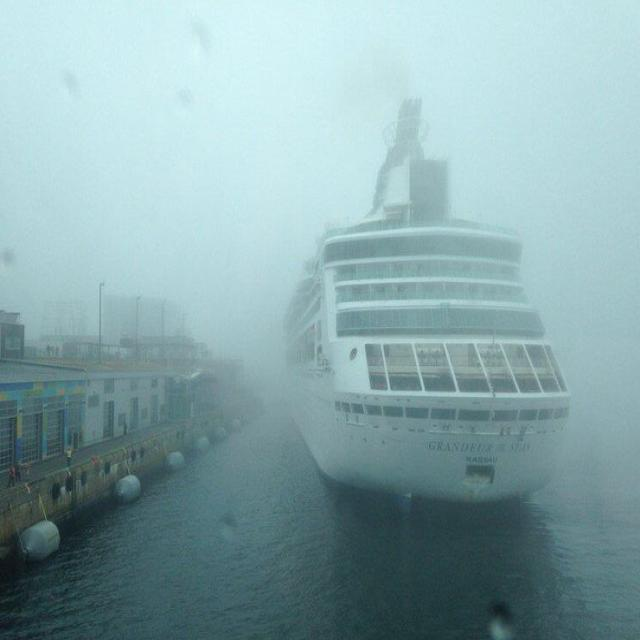passenger ship: (268, 98, 562, 503)
